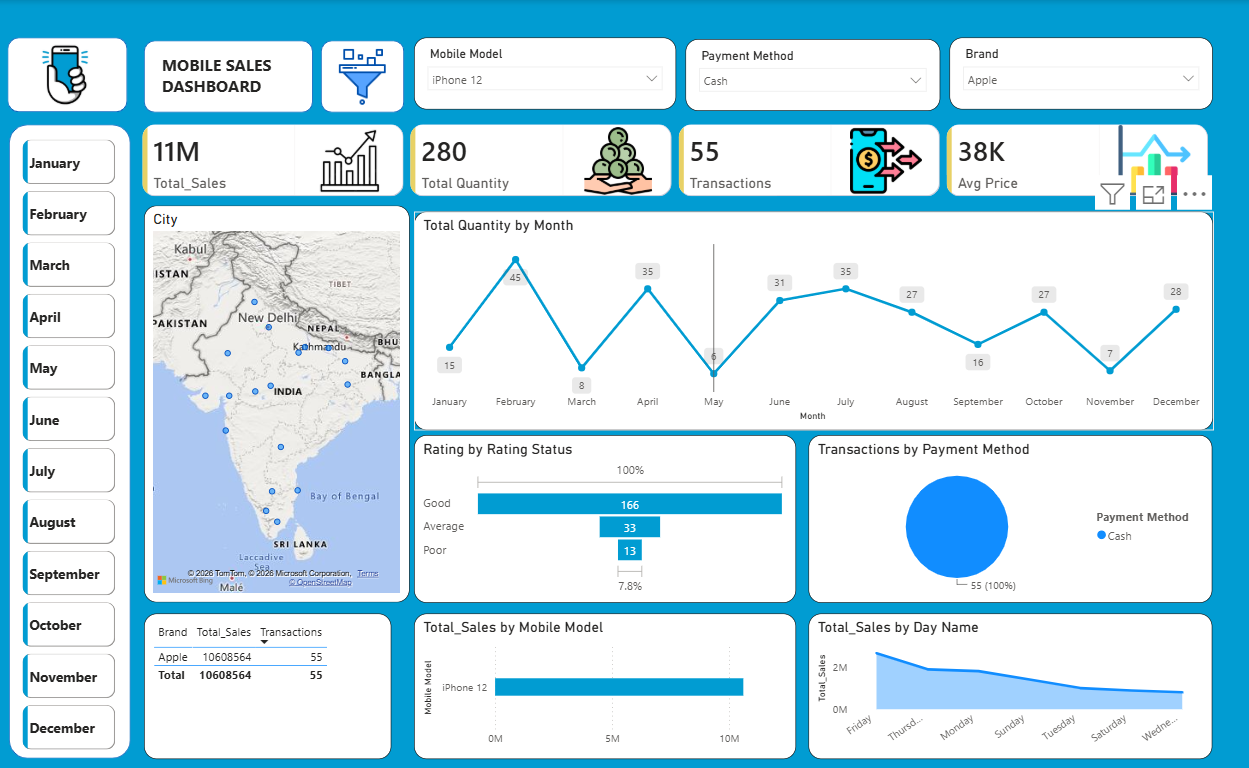

What the dashboard file says about the page in this screenshot:
{"tool":"powerbi","page":{"name":"Page 1","canvas":[1480,900],"ordinal":0},"visuals":[{"type":"shape","box":[12.9,44.3,140,87.1],"z":0},{"type":"shape","box":[13.5,145.3,141.9,740.1],"z":1000},{"type":"image","box":[24.3,41.4,110,90],"z":2000},{"type":"advancedSlicerVisual","fields":{"Values":["Custom_Calender.Date.Variation.Date Hierarchy.Month"]},"box":[25.3,157.1,118.3,728.2],"z":3000},{"type":"cardVisual","fields":{"Data":["mobile_sales_data.Total_Sales","mobile_sales_data.Total Quantity","mobile_sales_data.Transactions","mobile_sales_data.Weighted Avg Price"]},"box":[152.9,128.6,1280,118.6],"z":5000},{"type":"slicer","fields":{"Values":["mobile_sales_data.Payment Method"]},"box":[802.9,45.7,297.1,84.3],"z":6000},{"type":"shape","box":[378.6,47.1,97.1,84.3],"z":7000},{"type":"image","box":[361.4,55.7,131.4,67.1],"z":8000},{"type":"shape","box":[171.4,47.1,197.1,84.3],"z":9000},{"type":"slicer","fields":{"Values":["mobile_sales_data.Mobile Model"]},"box":[487.1,44.3,305.7,84.3],"z":10000},{"type":"slicer","fields":{"Values":["mobile_sales_data.Brand"]},"box":[1111.4,44.3,307.1,84.3],"z":11000},{"type":"textbox","box":[187.1,57.1,168.6,61.4],"z":12000},{"type":"lineChart","fields":{"Category":["Custom_Calender.Date.Variation.Date Hierarchy.Month"],"Y":["mobile_sales_data.Total Quantity"]},"box":[486.6,246.7,932.7,255.1],"z":13000},{"type":"funnel","title":"Rating by Rating Status","fields":{"Category":["mobile_sales_data.Rating status"],"Y":["Sum(mobile_sales_data.Customer Ratings)"]},"box":[487.1,507.1,445.7,195.7],"z":14000},{"type":"pieChart","fields":{"Y":["mobile_sales_data.Transactions"],"Category":["mobile_sales_data.Payment Method"]},"box":[947.1,507.1,471.4,195.7],"z":15000},{"type":"clusteredBarChart","fields":{"Y":["mobile_sales_data.Total_Sales"],"Category":["mobile_sales_data.Mobile Model"]},"box":[487.1,715.7,445.7,170],"z":16000},{"type":"areaChart","fields":{"Category":["Custom_Calender.Day Name"],"Y":["mobile_sales_data.Total_Sales"]},"box":[947.1,715.7,471.4,170],"z":17000},{"type":"tableEx","fields":{"Values":["mobile_sales_data.Brand","mobile_sales_data.Total_Sales","mobile_sales_data.Transactions"]},"box":[171.4,715.7,288.6,170],"z":18000},{"type":"map","fields":{"Category":["mobile_sales_data.City"]},"box":[171,240,310,463],"z":19000}]}

Visuals, with their boxes in screenshot pixels (x1, y1, x2, y2), scaled from the page's 1480x900 canvas onto the 1249x768 screenshot:
shape: <box>11,38,129,112</box>
shape: <box>11,124,131,756</box>
image: <box>21,35,113,112</box>
advancedSlicerVisual - Custom_Calender.Date.Variation.Date Hierarchy.Month: <box>21,134,121,755</box>
cardVisual - mobile_sales_data.Total_Sales x mobile_sales_data.Total Quantity: <box>129,110,1209,211</box>
slicer - mobile_sales_data.Payment Method: <box>678,39,928,111</box>
shape: <box>320,40,401,112</box>
image: <box>305,48,416,105</box>
shape: <box>145,40,311,112</box>
slicer - mobile_sales_data.Mobile Model: <box>411,38,669,110</box>
slicer - mobile_sales_data.Brand: <box>938,38,1197,110</box>
textbox: <box>158,49,300,101</box>
lineChart - Custom_Calender.Date.Variation.Date Hierarchy.Month x mobile_sales_data.Total Quantity: <box>411,211,1198,428</box>
"Rating by Rating Status" funnel: <box>411,433,787,600</box>
pieChart - mobile_sales_data.Transactions x mobile_sales_data.Payment Method: <box>799,433,1197,600</box>
clusteredBarChart - mobile_sales_data.Total_Sales x mobile_sales_data.Mobile Model: <box>411,611,787,756</box>
areaChart - Custom_Calender.Day Name x mobile_sales_data.Total_Sales: <box>799,611,1197,756</box>
tableEx - mobile_sales_data.Brand x mobile_sales_data.Total_Sales: <box>145,611,388,756</box>
map - mobile_sales_data.City: <box>144,205,406,600</box>
